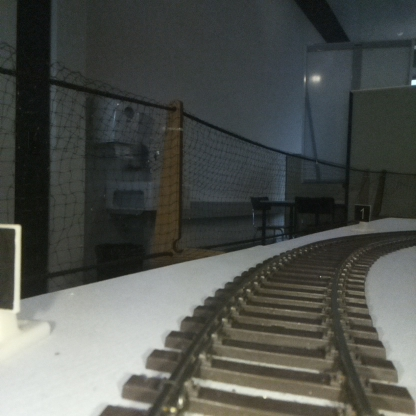black-stop-1: (354, 205, 370, 231)
